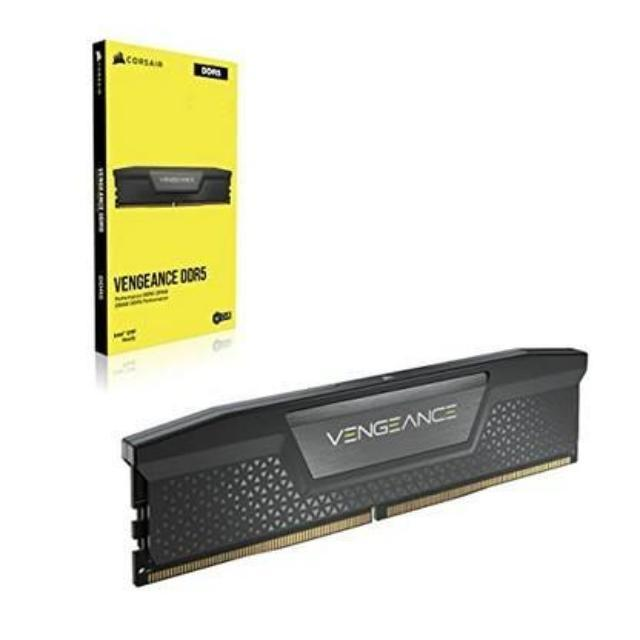RAM: (101, 340, 593, 608)
